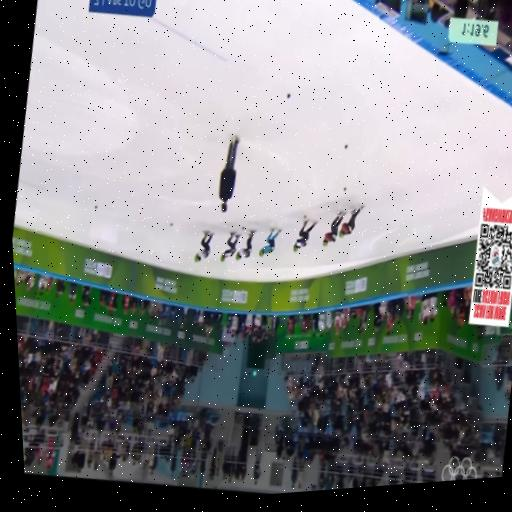Skater: (339, 206, 363, 237), (294, 220, 316, 251), (324, 212, 344, 245), (259, 229, 281, 256), (235, 230, 255, 259), (194, 231, 213, 261), (220, 233, 240, 260)
